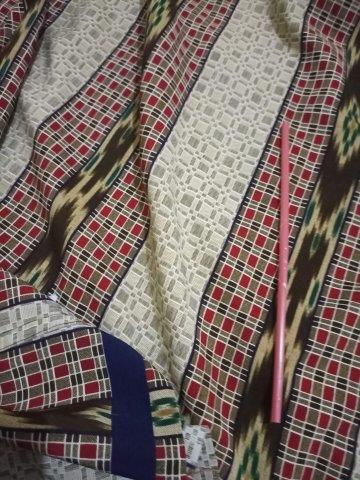sedotan: (272, 123, 289, 422)
